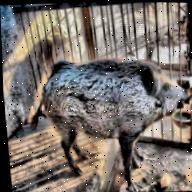boar: (30, 39, 192, 184)
